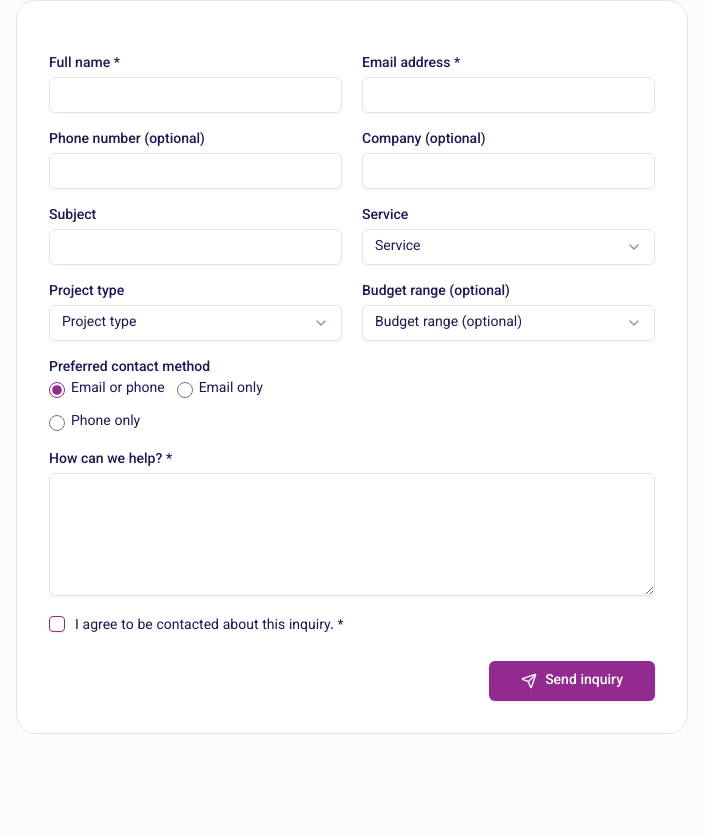
Scenario: ContactForm › submits successfully, announces success and blocks duplicate submit
Type "QA User" into the field labelled "Full name *".
click(196, 95); type("QA User")  # box top-left (49, 77), bottom-right (342, 113)
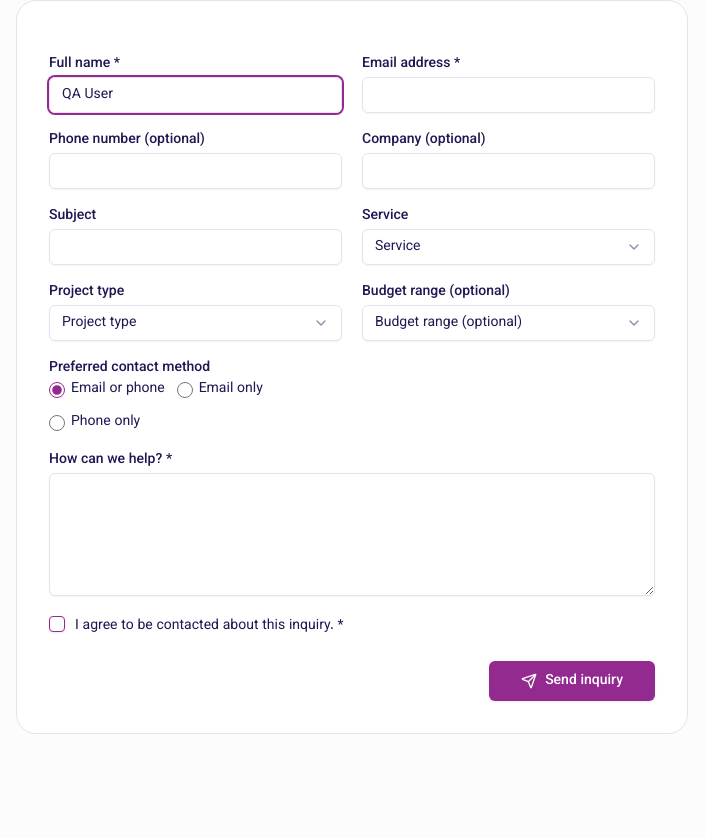
Type "qa@example.com" into the field labelled "Email address *".
click(508, 95); type("qa@example.com")  # box top-left (362, 77), bottom-right (655, 113)
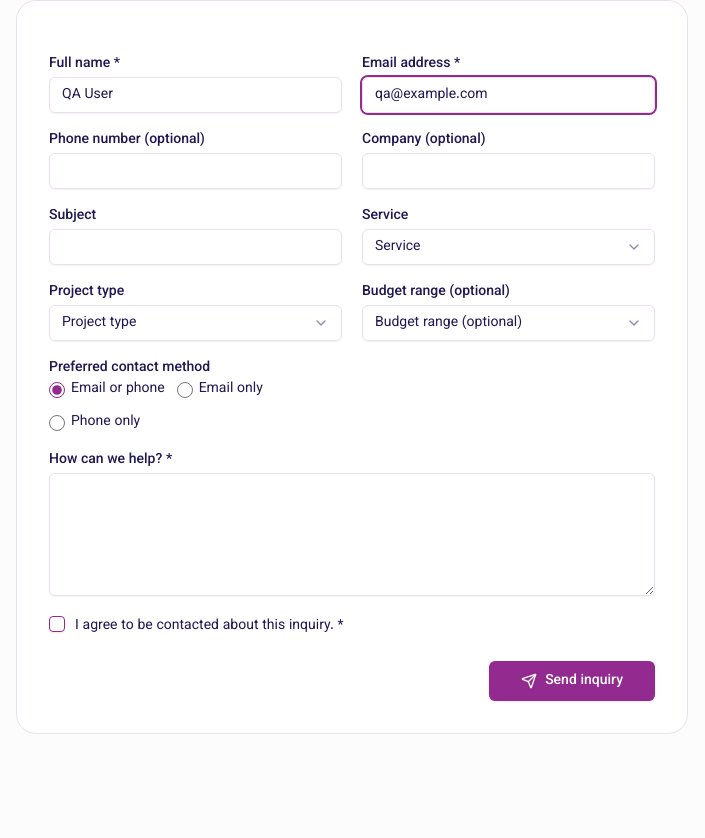
Type "We need an ERP." into the text box labelled "How can we help? *".
click(352, 534); type("We need an ERP.")  # box top-left (49, 473), bottom-right (655, 596)
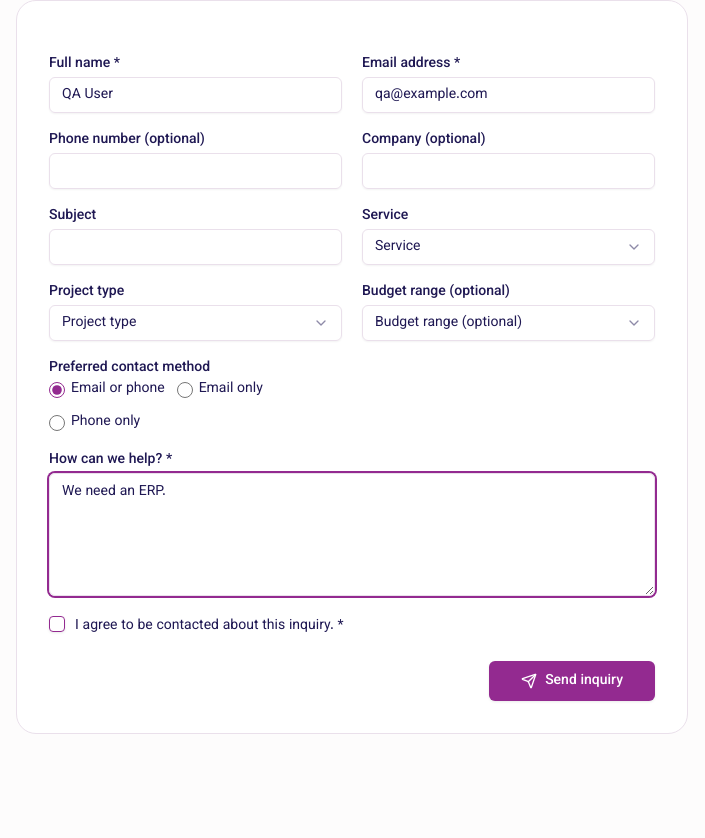
Click the checkbox named "i agree to be contacted".
click(57, 624)  # box top-left (49, 616), bottom-right (65, 632)
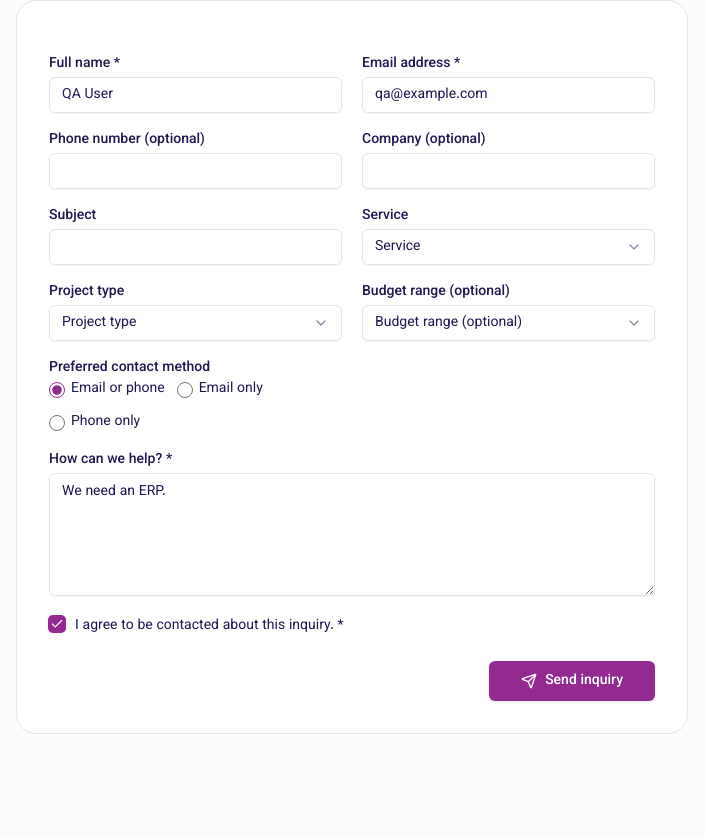
Click the button "Send inquiry".
click(572, 681)  # box top-left (489, 661), bottom-right (655, 701)
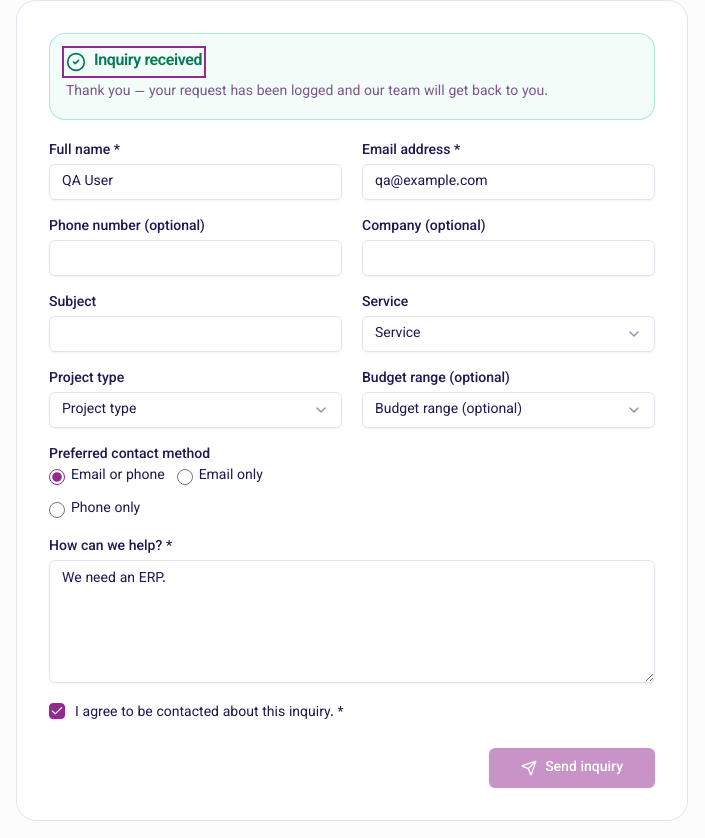
Expected: the heading "Inquiry received" is shown, top-left (66, 50), bottom-right (202, 74)
Expected: the button "Send inquiry" is disabled, top-left (489, 748), bottom-right (655, 788)
